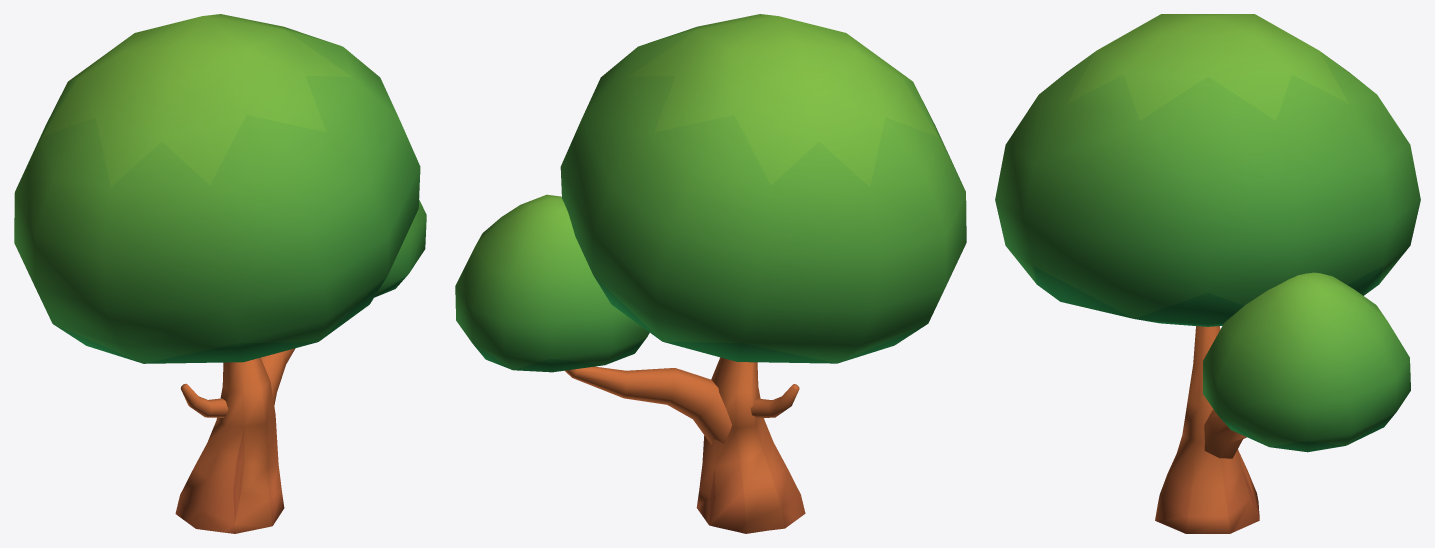
File: tree_1_b_trunk.glb
3 views of the same model, side by side, from view 1: azimuth 30°, elevation 25°; view 2: azimuth 150°, elevation 25°; view 3: azimuth 270°, elevation 25° (orthographic).
Visible parts, largest first — view 1: tree_1_b_trunk; view 2: tree_1_b_trunk; view 3: tree_1_b_trunk.
Boxes of the visible parts, box(x1,y1,x2,y2) form: tree_1_b_trunk: box(14, 14, 426, 533); tree_1_b_trunk: box(455, 14, 966, 533); tree_1_b_trunk: box(995, 14, 1420, 533).
Size of the model in its own units: 5.21 by 5.52 by 4.48.
2 materials, 2 textured.
